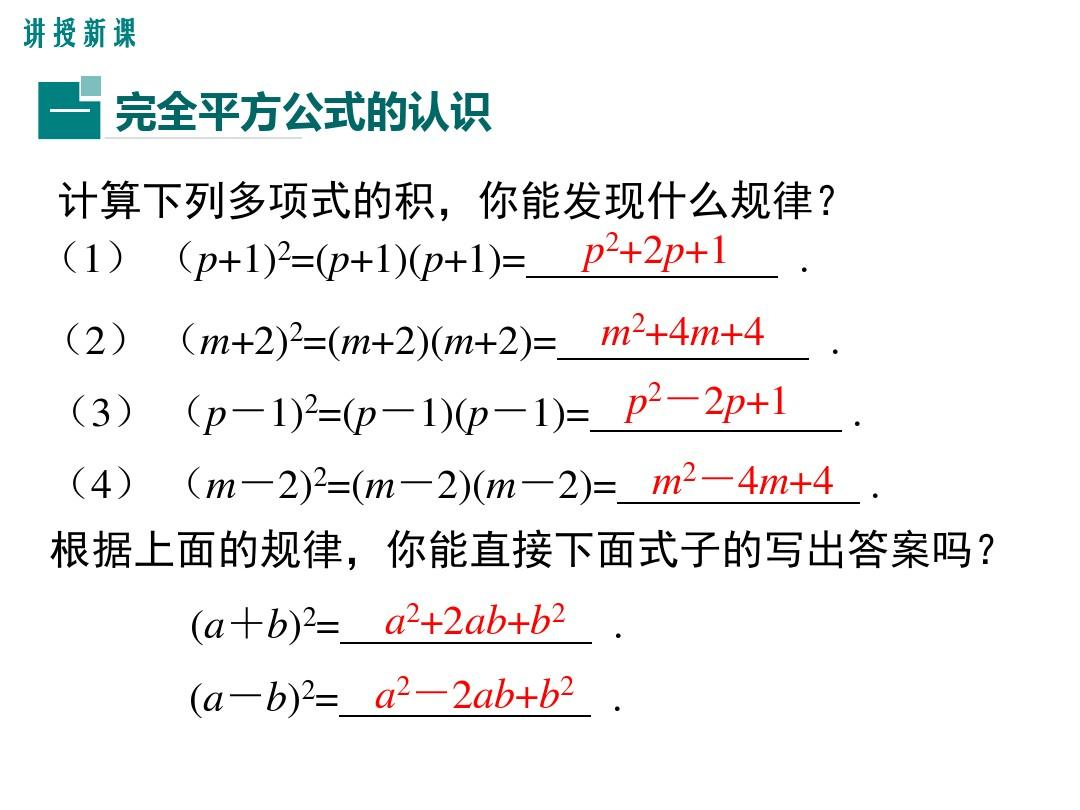square: (627, 307, 648, 338), (555, 670, 576, 700), (297, 603, 316, 630), (679, 458, 700, 482), (302, 388, 320, 416), (551, 598, 567, 629), (647, 375, 662, 408), (285, 317, 304, 342), (298, 677, 316, 703), (393, 674, 414, 696), (310, 462, 327, 489), (405, 601, 423, 626), (275, 235, 293, 259), (605, 230, 623, 254)
